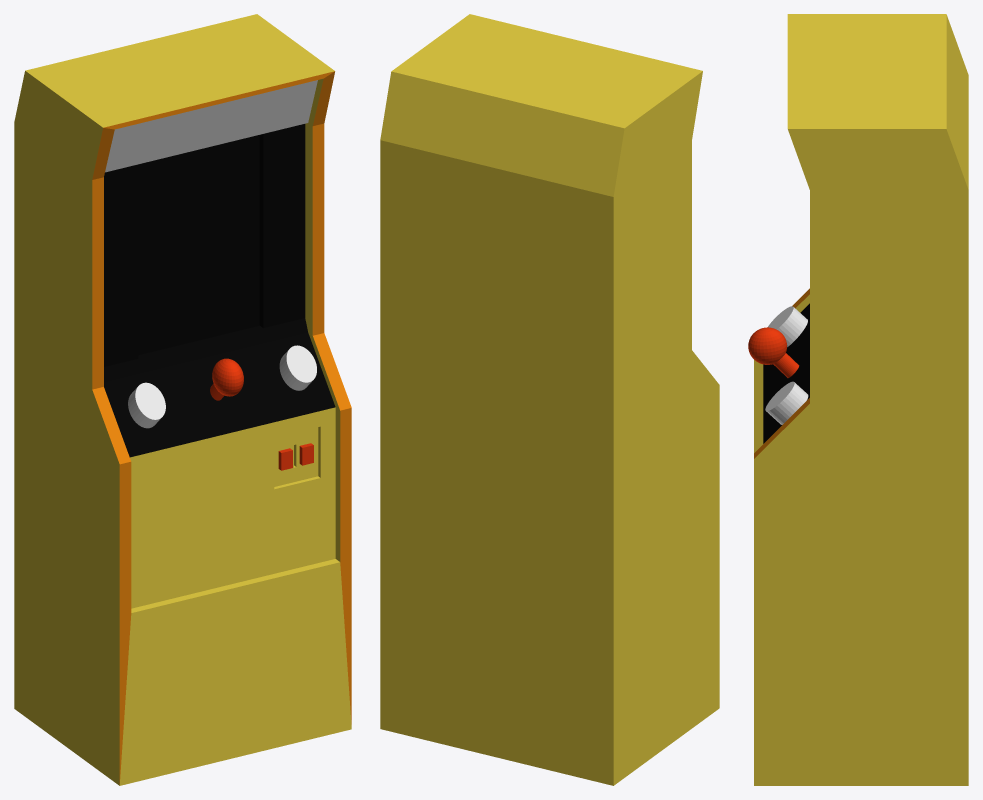
Rendered from Mini Arcade Machine.fbx.
The picture shows the model from 3 angles, left to right: view 1: azimuth 30°, elevation 25°; view 2: azimuth 150°, elevation 25°; view 3: azimuth 270°, elevation 25°; orthographic projection.
Visible parts, largest first — view 1: Cube; view 2: Cube; view 3: Cube.
Part boxes in pixels (<box>): Cube: <box>14,14,351,785</box>; Cube: <box>380,14,719,785</box>; Cube: <box>748,14,968,785</box>.
Bounding box in the file's own units: 153 × 407 × 124.
